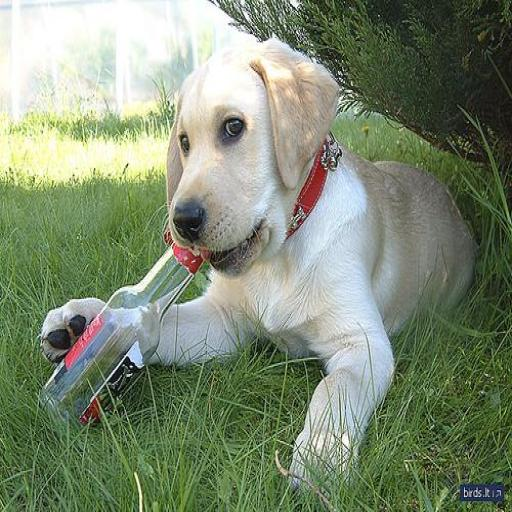dog_face: (159, 47, 316, 263)
